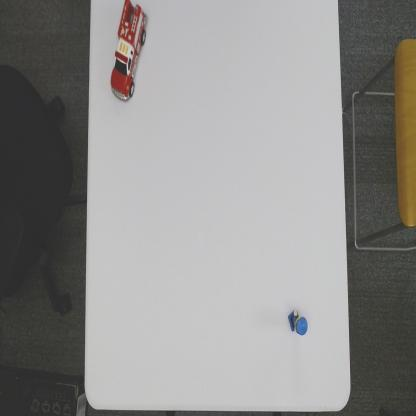Firetruck: (108, 0, 149, 103)
